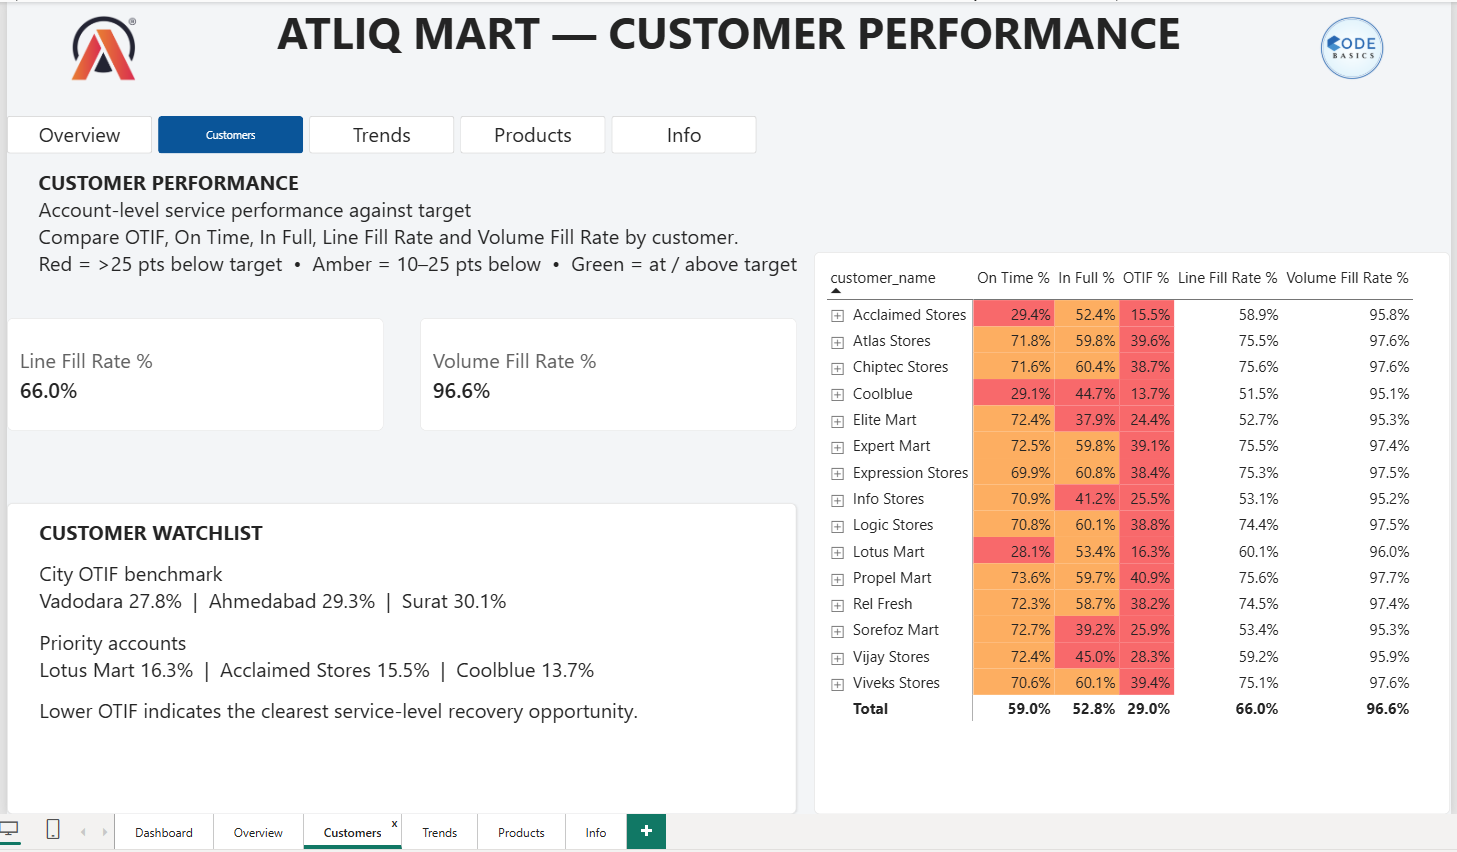

Layout of this report page (visuals, bound fields, positions):
{"tool":"powerbi","page":{"name":"Customers","canvas":[1920,1080],"ordinal":2},"visuals":[{"type":"image","box":[0,17.3,259.4,86.5],"z":0},{"type":"image","box":[1658.4,16.9,261,88.3],"z":1000},{"type":"textbox","box":[0,0,1920,122.9],"z":2000},{"type":"textbox","box":[9.3,220.8,1050.7,222.1],"z":3000},{"type":"pageNavigator","box":[0,151.5,1000,50],"z":5000},{"type":"cardVisual","fields":{"Data":["Measures table.Line Fill Rate %"]},"box":[34.6,445.6,500,150],"z":6000},{"type":"cardVisual","fields":{"Data":["Measures table.Volume Fill Rate %"]},"box":[550.6,445.6,500,150],"z":7000},{"type":"textbox","box":[0,606.5,1050.7,473.5],"z":8000},{"type":"pivotTable","fields":{"Rows":["dim_customers.customer_name","dim_customers.city"],"Values":["Measures table.On Time %","Measures table.In Full %","Measures table.OTIF %","Measures table.Line Fill Rate %","Measures table.Volume Fill Rate %"]},"box":[897.8,232.8,1022.8,847.2],"z":9000}]}

Visuals, with their boxes on the page's 1920x1080 design canvas (x1, y1, x2, y2). These are canvas units, not pixel positions in the 1457x852 screenshot, which may show the page scaled, cropped or inside an application window:
image: (0,17,259,104)
image: (1658,17,1919,105)
textbox: (0,0,1920,123)
textbox: (9,221,1060,443)
pageNavigator: (0,152,1000,202)
cardVisual - Measures table.Line Fill Rate %: (35,446,535,596)
cardVisual - Measures table.Volume Fill Rate %: (551,446,1051,596)
textbox: (0,606,1051,1080)
pivotTable - dim_customers.customer_name x dim_customers.city: (898,233,1921,1080)
